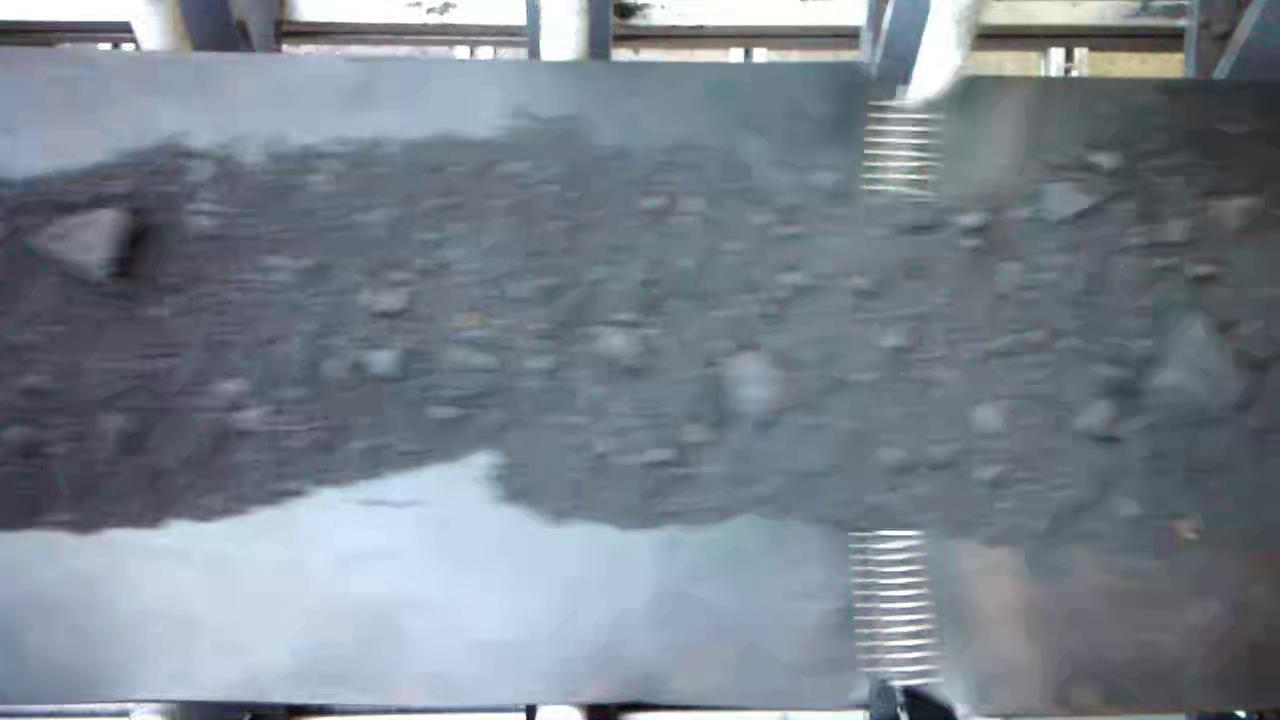conveyor: (5, 68, 1280, 707)
